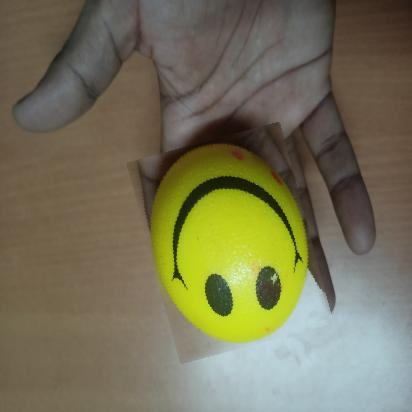Yellowball: (138, 130, 321, 356)
